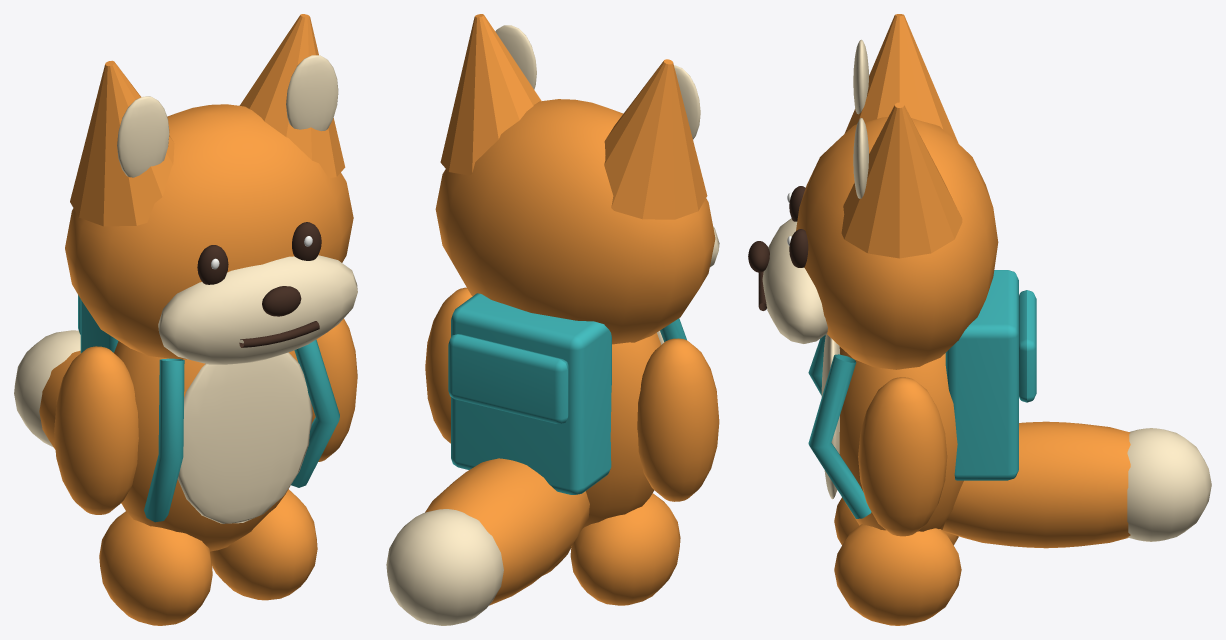
Rendered from a-cheng.glb.
3 renders of one model, left to right at view 1: azimuth 30°, elevation 25°; view 2: azimuth 150°, elevation 25°; view 3: azimuth 270°, elevation 25°, orthographic. The views are drawn at different scales.
Parts seen in each view (by area): view 1: Head, Belly, Muzzle, Arm_L, Foot_L, FoxEar, Body, Foot_R, FoxEar.001, BackpackStrap, TailTip, EarInner (+9 smaller); view 2: Head, Backpack, Tail, FoxEar, Arm_L, TailTip, Foot_L, FoxEar.001, BackpackFlap, Body, Arm_R, EarInner.001 (+1 smaller); view 3: Head, Tail, Backpack, FoxEar.001, Arm_R, Foot_R, TailTip, Body, FoxEar, Muzzle, BackpackStrap.001, BackpackFlap (+4 smaller).
Boxes of the visible parts, box(x1,y1,x2,y2) form: Head: box(65, 104, 353, 359); Belly: box(177, 352, 312, 523); Muzzle: box(158, 255, 357, 364); Arm_L: box(54, 346, 138, 514); Foot_L: box(99, 511, 212, 625); FoxEar: box(70, 60, 174, 226); Body: box(114, 341, 298, 551); Foot_R: box(210, 489, 317, 600); FoxEar.001: box(239, 14, 345, 178); BackpackStrap: box(144, 358, 184, 522); TailTip: box(14, 330, 80, 447); EarInner: box(117, 96, 169, 177); Head: box(435, 99, 715, 344); Backpack: box(451, 293, 611, 494); Tail: box(425, 458, 589, 605); FoxEar: box(604, 59, 707, 219); Arm_L: box(637, 338, 719, 501); TailTip: box(386, 509, 503, 625); Foot_L: box(570, 493, 680, 605); FoxEar.001: box(440, 14, 541, 175); BackpackFlap: box(448, 334, 568, 423); Body: box(582, 333, 661, 528); Arm_R: box(425, 287, 472, 443); EarInner.001: box(495, 25, 536, 89); Head: box(796, 117, 998, 369); Tail: box(942, 421, 1130, 548); Backpack: box(945, 270, 1018, 480); FoxEar.001: box(841, 102, 962, 258); Arm_R: box(858, 377, 947, 536); Foot_R: box(834, 524, 961, 625); TailTip: box(1127, 428, 1211, 541); Body: box(839, 346, 963, 531); FoxEar: box(844, 14, 958, 143); Muzzle: box(762, 218, 827, 343); BackpackStrap.001: box(808, 354, 871, 518); BackpackFlap: box(1019, 290, 1036, 402).
Size of the model in its own units: 1 by 1.86 by 1.45.
